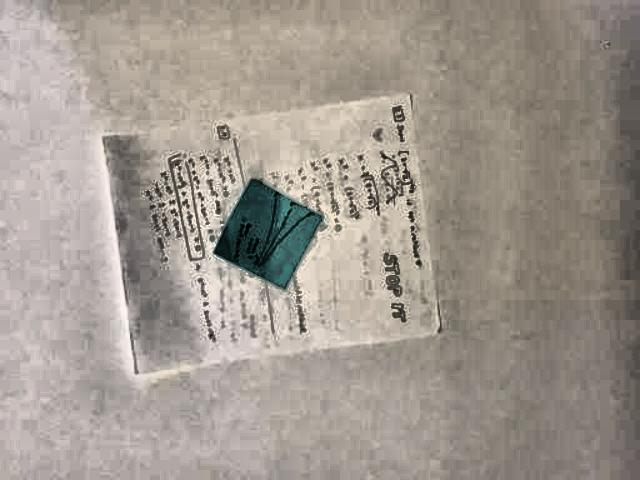Paper: (100, 85, 438, 379)
